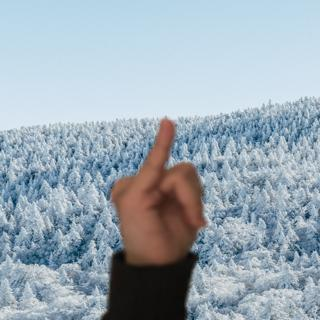HAVE: (87, 113, 216, 273)
